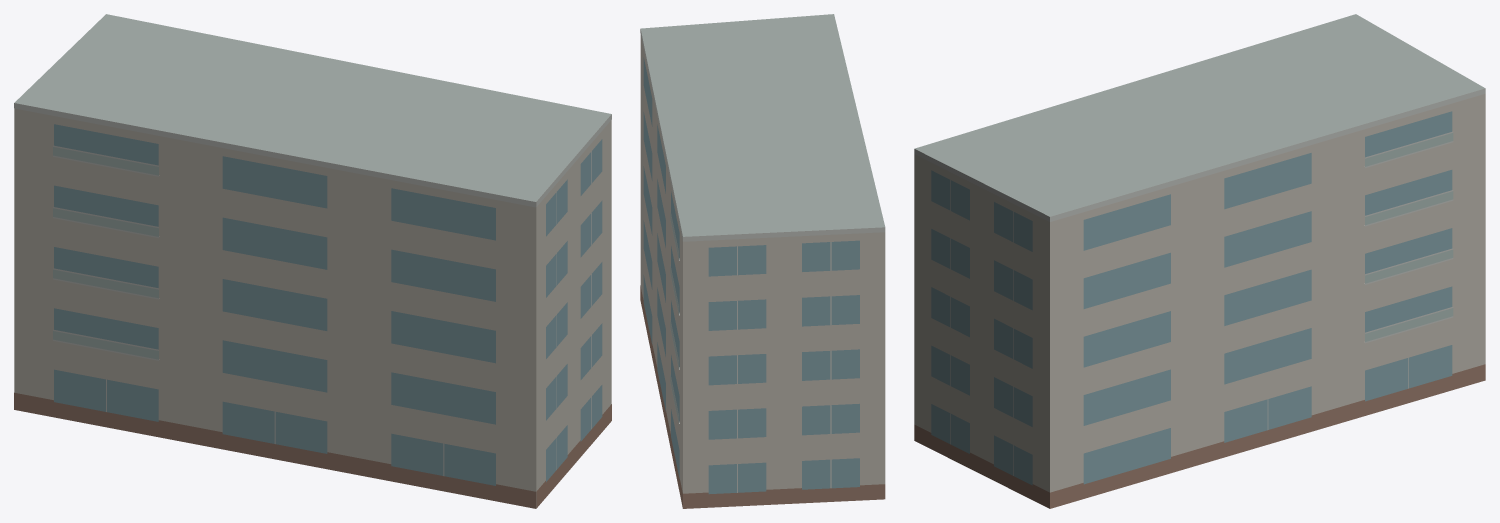
File: survey-upis-32811578.glb
3 views of the same model, side by side, from view 1: azimuth 30°, elevation 25°; view 2: azimuth 150°, elevation 25°; view 3: azimuth 270°, elevation 25° (orthographic). The views are drawn at different scales.
Visible parts, largest first — view 1: survey-upis-32811578.tmp; view 2: survey-upis-32811578.tmp; view 3: survey-upis-32811578.tmp.
Part boxes in pixels (<box>): survey-upis-32811578.tmp: <box>14,14,611,508</box>; survey-upis-32811578.tmp: <box>640,14,885,508</box>; survey-upis-32811578.tmp: <box>914,14,1485,508</box>.
Size of the model in its own units: 20.2 by 13.55 by 24.04.
